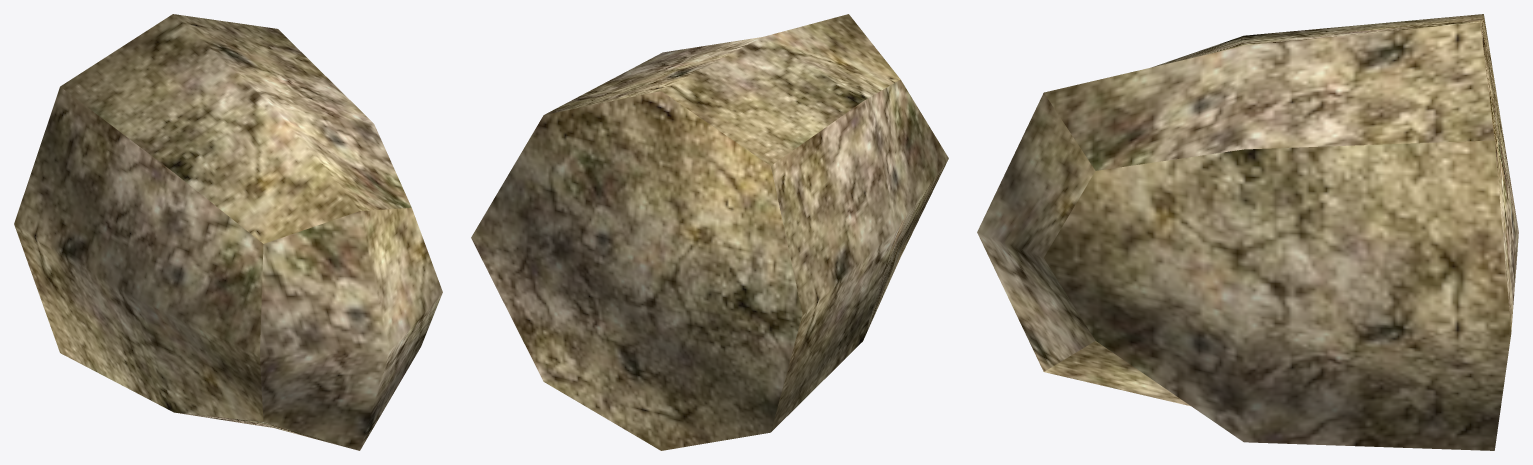
3 views of the same model, side by side, from view 1: azimuth 30°, elevation 25°; view 2: azimuth 150°, elevation 25°; view 3: azimuth 270°, elevation 25° (orthographic). The views are drawn at different scales.
Visible parts, largest first — view 1: model_Object28; view 2: model_Object28; view 3: model_Object28.
Boxes of the visible parts, box(x1,y1,x2,y2) form: model_Object28: box(14, 14, 442, 450); model_Object28: box(471, 14, 948, 450); model_Object28: box(977, 14, 1518, 450).
Size of the model in its own units: 1.51 by 1.58 by 1.86.
Materials: 1 (1 with a texture image).
